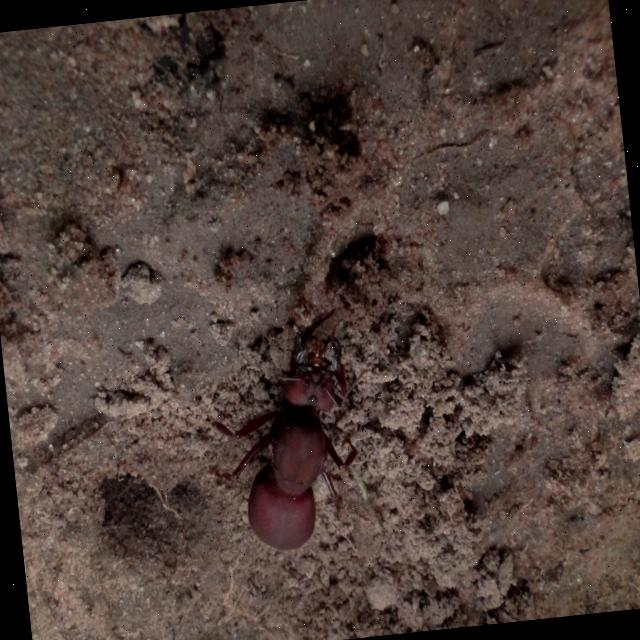Alive-Female-Dealate: (194, 302, 387, 558)
